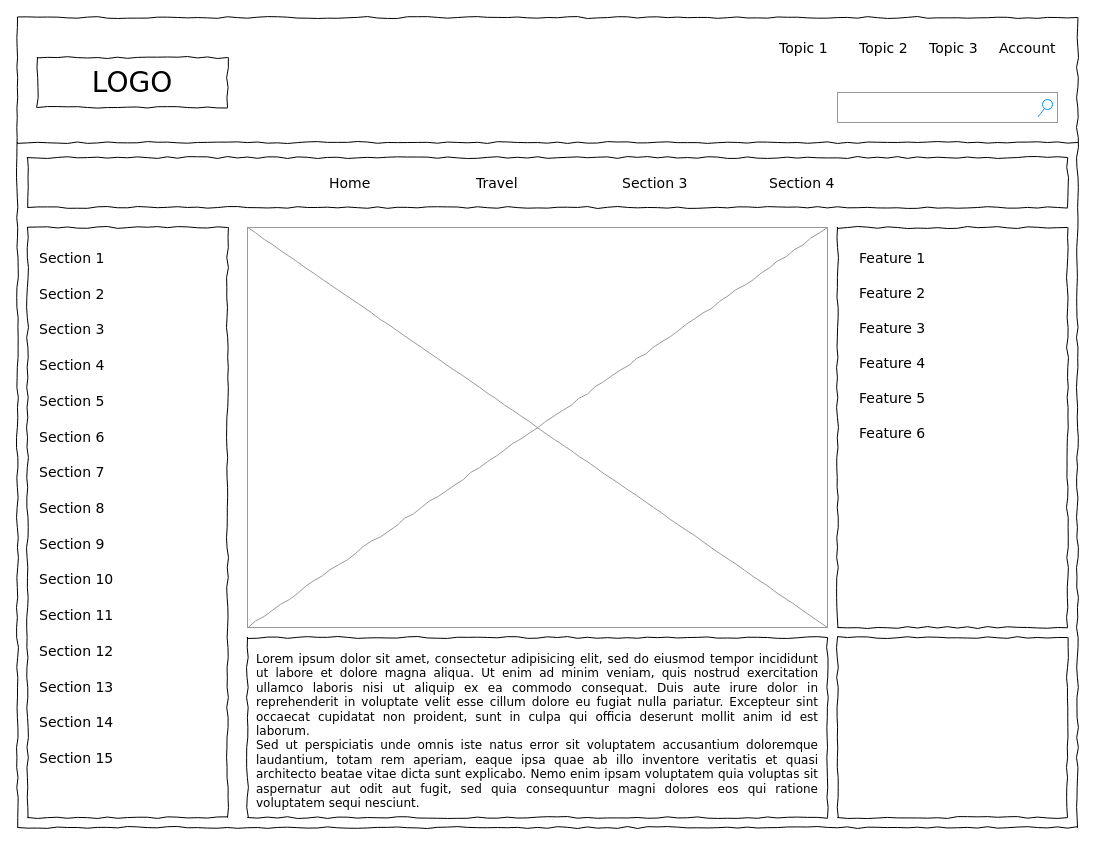
Image size: 1095x845. Some labels were removed from this diagram. Here are the shapes that lost their labels. From the top down, the centre of each, then its label:
At (x=947, y=107): "Search".
At (x=952, y=727): "External Links".
